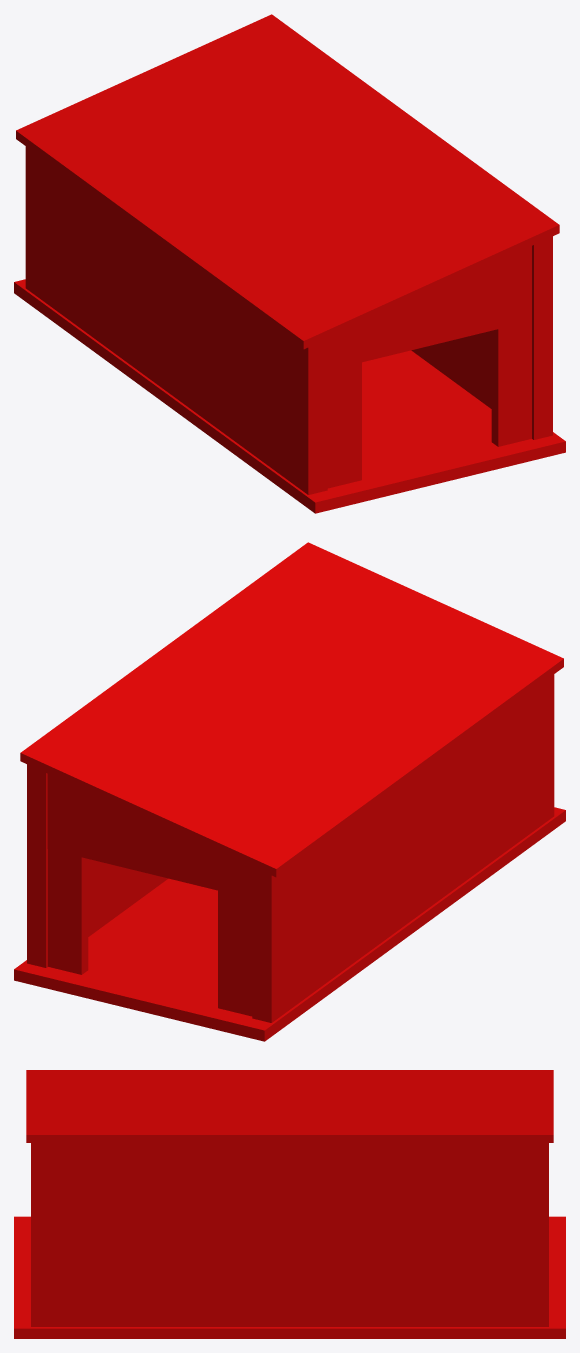
Rendered from SM_Bld_Warehouse_Brick_01_Collision.fbx.
3 renders of one model, top to bottom at view 1: azimuth 30°, elevation 25°; view 2: azimuth 150°, elevation 25°; view 3: azimuth 270°, elevation 25°, orthographic. The views are drawn at different scales.
Parts seen in each view (by area): view 1: SM_Bld_Warehouse_Brick_01_Collision; view 2: SM_Bld_Warehouse_Brick_01_Collision; view 3: SM_Bld_Warehouse_Brick_01_Collision.
Part boxes in pixels (x1,y1,x2,y2): SM_Bld_Warehouse_Brick_01_Collision: [14, 14, 565, 513]; SM_Bld_Warehouse_Brick_01_Collision: [14, 542, 565, 1041]; SM_Bld_Warehouse_Brick_01_Collision: [14, 1070, 565, 1338].
Size of the model in its own units: 1109 by 922 by 2261.
